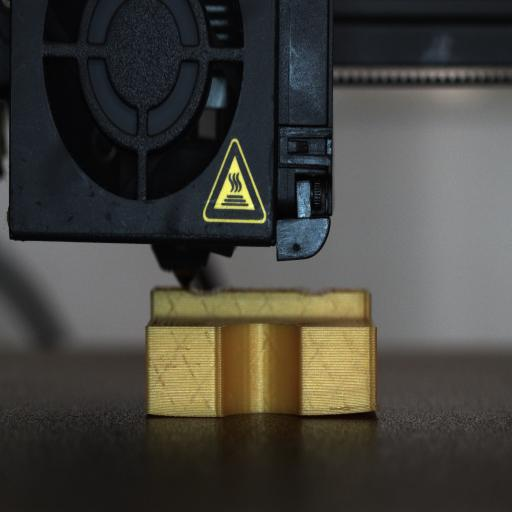warp: (321, 397, 383, 424)
